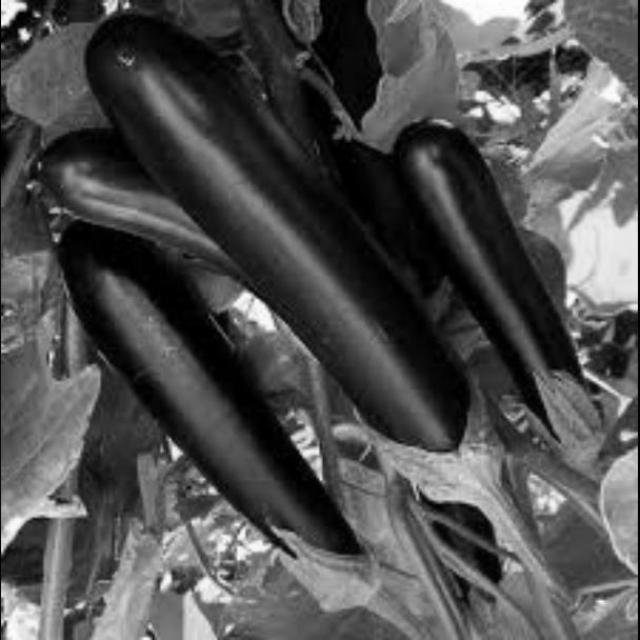eggplant: (3, 22, 509, 464), (49, 242, 402, 640), (389, 118, 617, 467)
